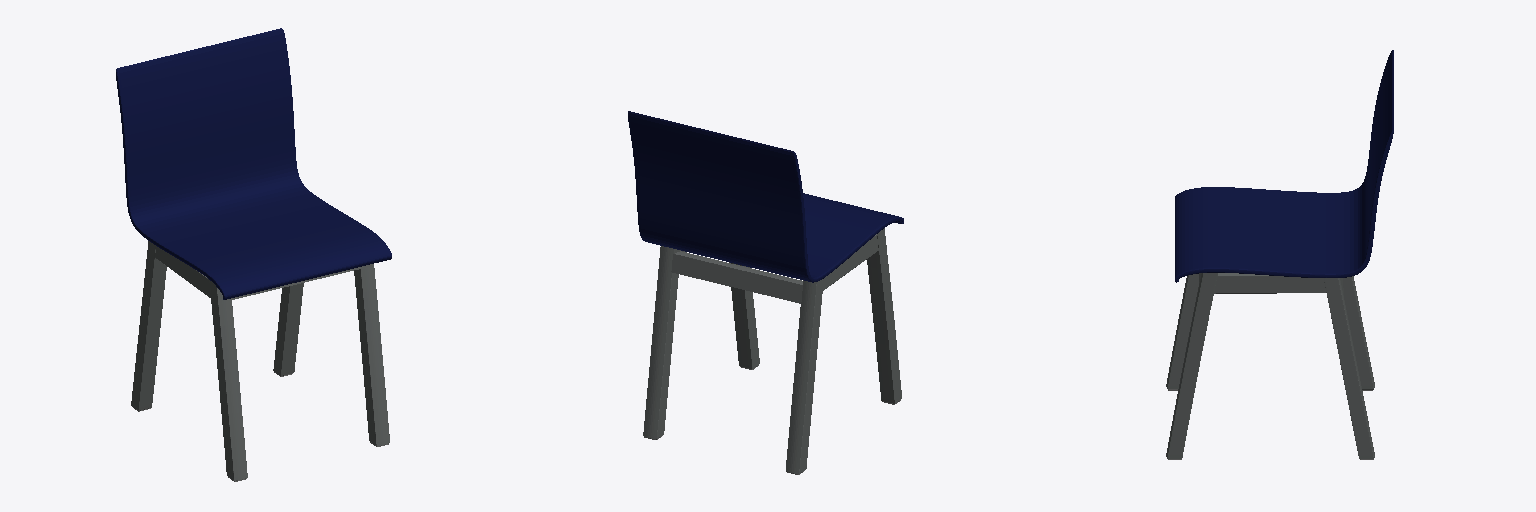
3 renders of one model, left to right at view 1: azimuth 30°, elevation 25°; view 2: azimuth 150°, elevation 25°; view 3: azimuth 270°, elevation 25°, orthographic.
Parts seen in each view (by area): view 1: polySurface2; view 2: polySurface2; view 3: polySurface2.
Part boxes in pixels (bbox=[...]): polySurface2: bbox=[116, 28, 391, 481]; polySurface2: bbox=[628, 111, 903, 474]; polySurface2: bbox=[1166, 50, 1393, 459].
Size of the model in its own units: 0.7377 by 1.39 by 0.8638.
Materials: 3 (2 with a texture image).